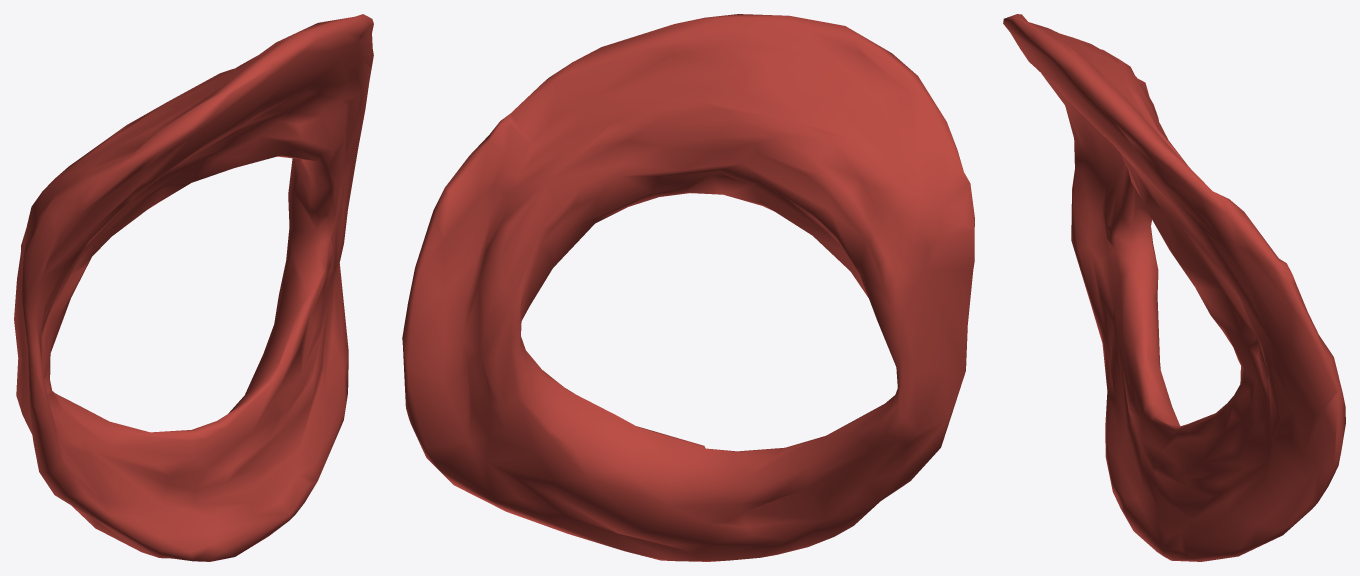
Rendered from musculos-orbital-part-of-orbicularis-oculi-l.glb.
3 renders of one model, left to right at view 1: azimuth 30°, elevation 25°; view 2: azimuth 150°, elevation 25°; view 3: azimuth 270°, elevation 25°, orthographic. The views are drawn at different scales.
Parts seen in each view (by area): view 1: Orbital part of orbicularis oculi.l; view 2: Orbital part of orbicularis oculi.l; view 3: Orbital part of orbicularis oculi.l.
Boxes of the visible parts, x1,y1,x2,y2 form: Orbital part of orbicularis oculi.l: (14,14,373,561); Orbital part of orbicularis oculi.l: (402,14,974,561); Orbital part of orbicularis oculi.l: (1003,14,1345,561).
Size of the model in its own units: 0.0443 by 0.0496 by 0.0314.
